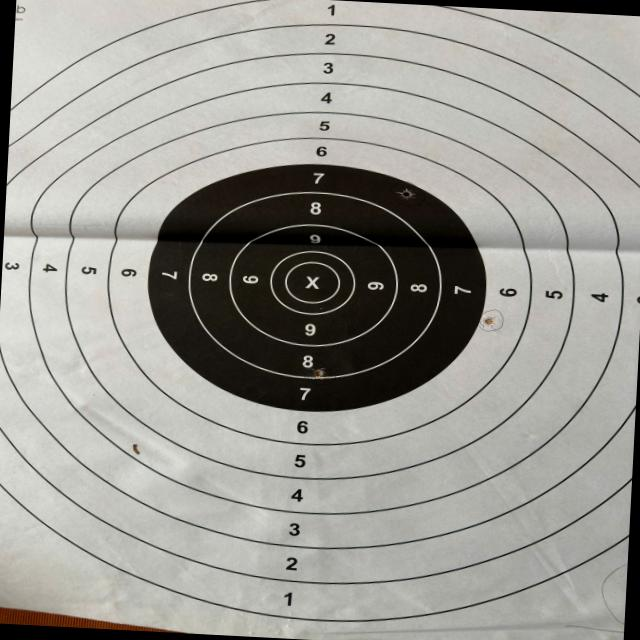bullet: (313, 368, 325, 380), (133, 442, 140, 454), (403, 188, 410, 196), (485, 317, 492, 325)
target: (0, 0, 640, 640)
